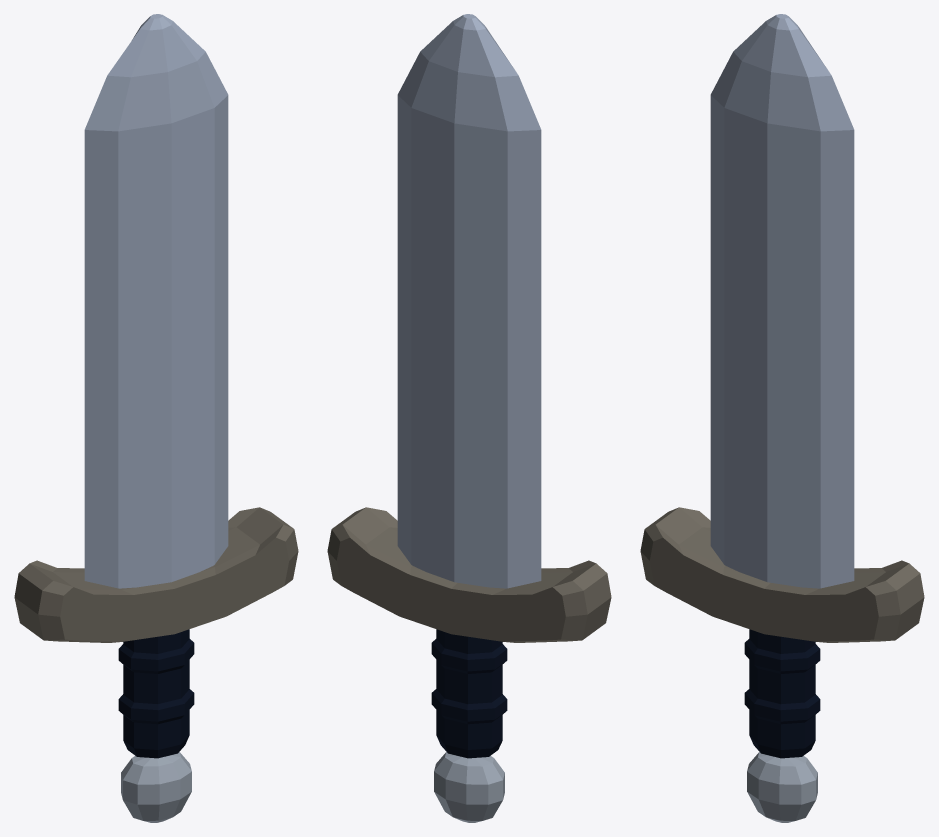
File: BE_PowerMesh_HeldSword.fbx
3 renders of one model, left to right at view 1: azimuth 30°, elevation 25°; view 2: azimuth 150°, elevation 25°; view 3: azimuth 330°, elevation 25°, orthographic.
Visible parts, largest first — view 1: BE_PowerMesh_HeldSword; view 2: BE_PowerMesh_HeldSword; view 3: BE_PowerMesh_HeldSword.
Part boxes in pixels (bbox=[...]): BE_PowerMesh_HeldSword: bbox=[14, 14, 298, 822]; BE_PowerMesh_HeldSword: bbox=[327, 14, 611, 822]; BE_PowerMesh_HeldSword: bbox=[640, 14, 924, 822].
Bounding box in the file's own units: 190 × 560 × 46.
1 material, 1 textured.
